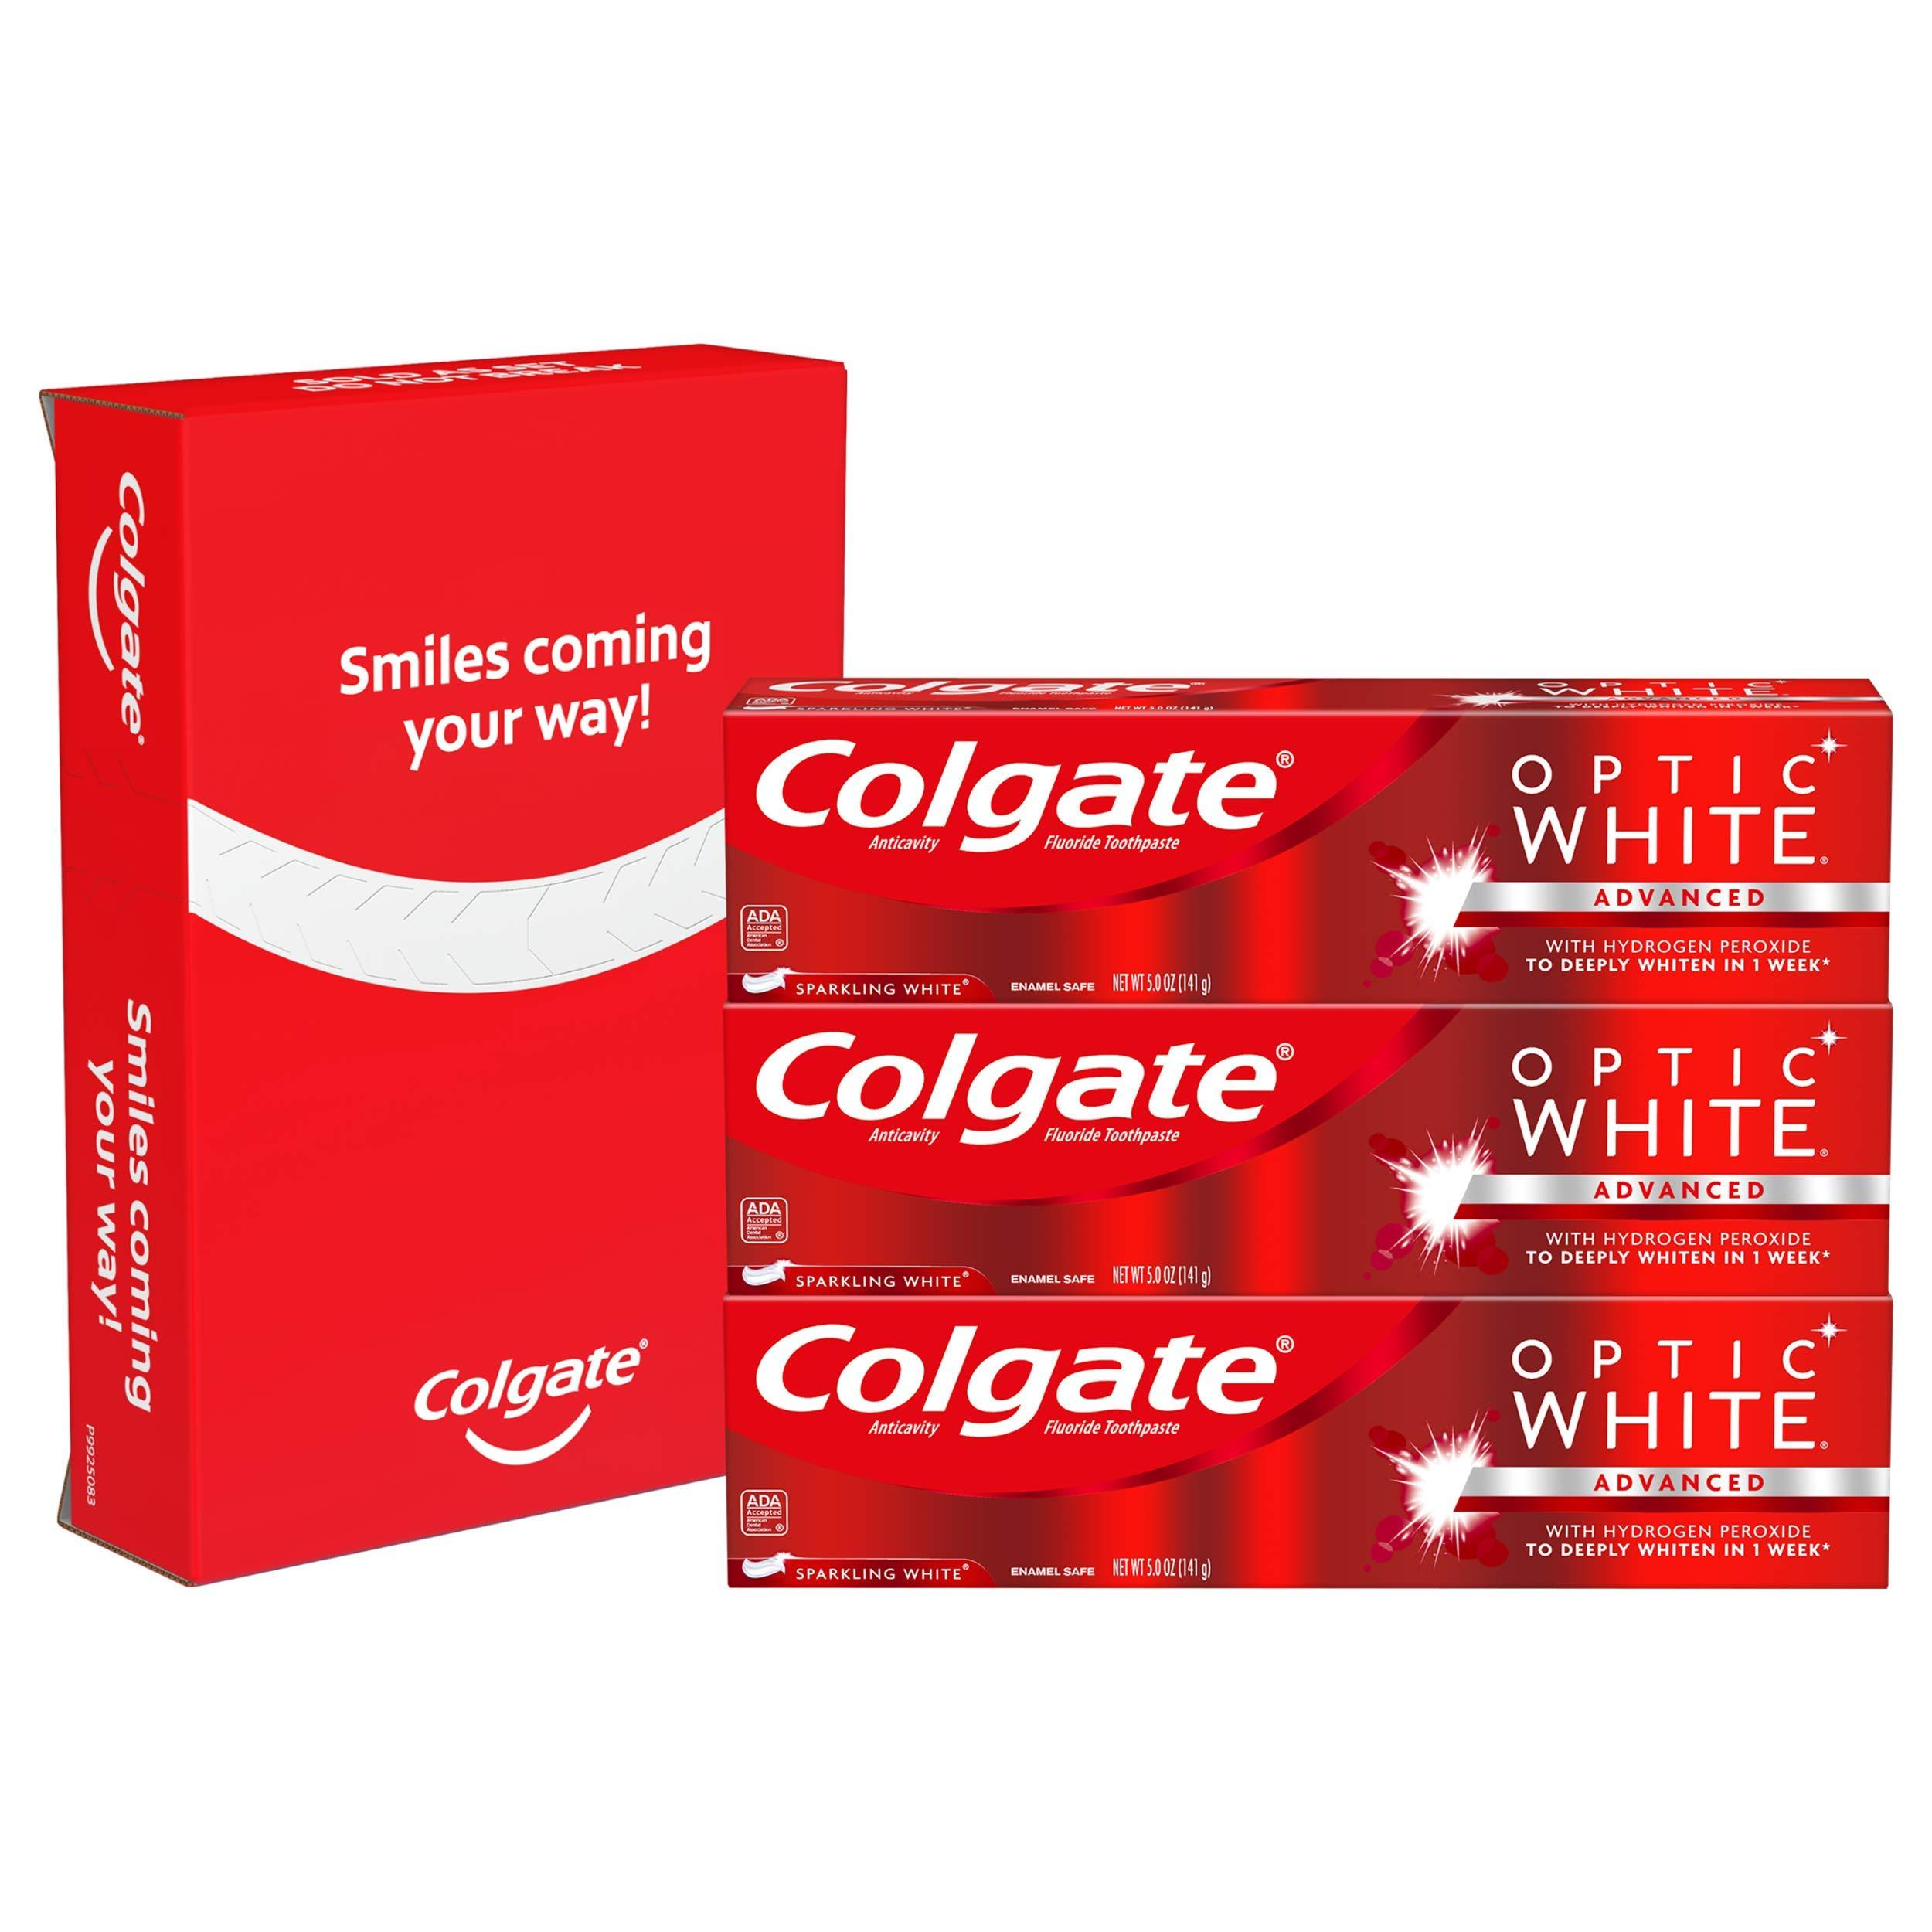toothpaste: (715, 660, 1900, 1012), (725, 1297, 1881, 1601), (722, 1000, 1891, 1295)
